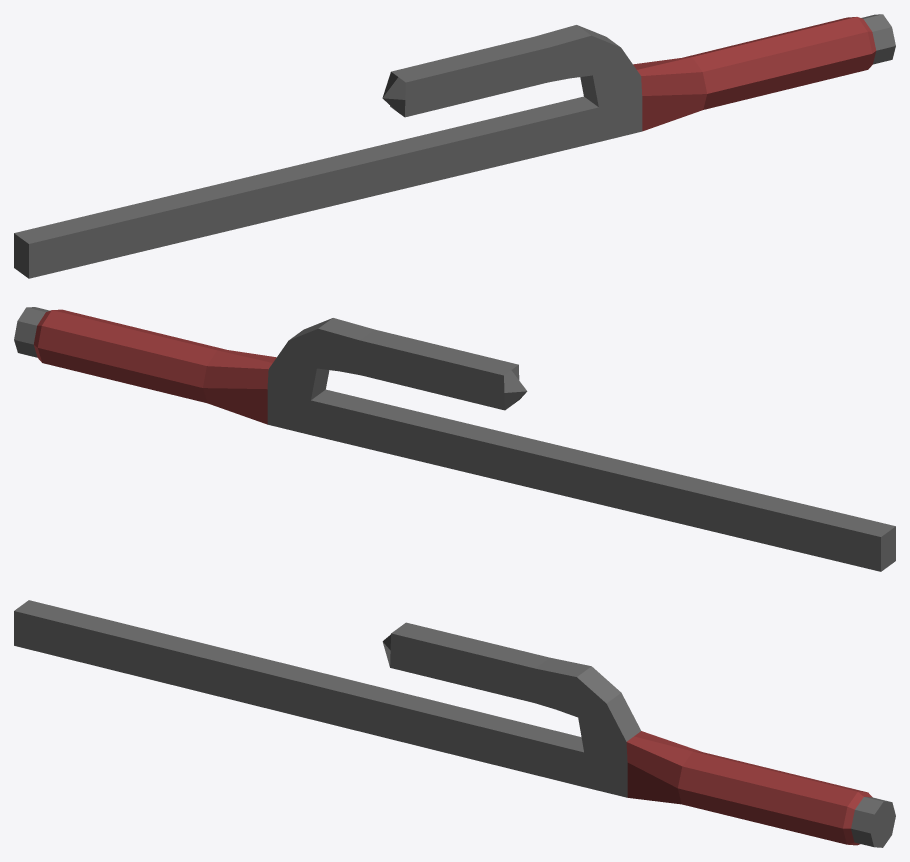
The model's file is Ten Hands.fbx.
3 renders of one model, top to bottom at view 1: azimuth 30°, elevation 25°; view 2: azimuth 150°, elevation 25°; view 3: azimuth 330°, elevation 25°, orthographic.
Parts seen in each view (by area): view 1: Jitte; view 2: Jitte; view 3: Jitte.
Boxes of the visible parts, x1,y1,x2,y2 form: Jitte: (14,14,895,278); Jitte: (14,307,895,571); Jitte: (14,600,895,847).
Bounding box in the file's own units: 46.52 × 5.59 × 2.74.
